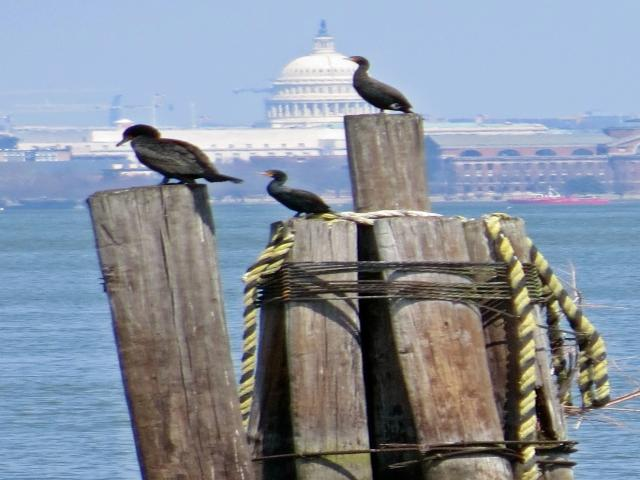Bird: (113, 124, 248, 190), (345, 52, 417, 116), (258, 170, 338, 216)
